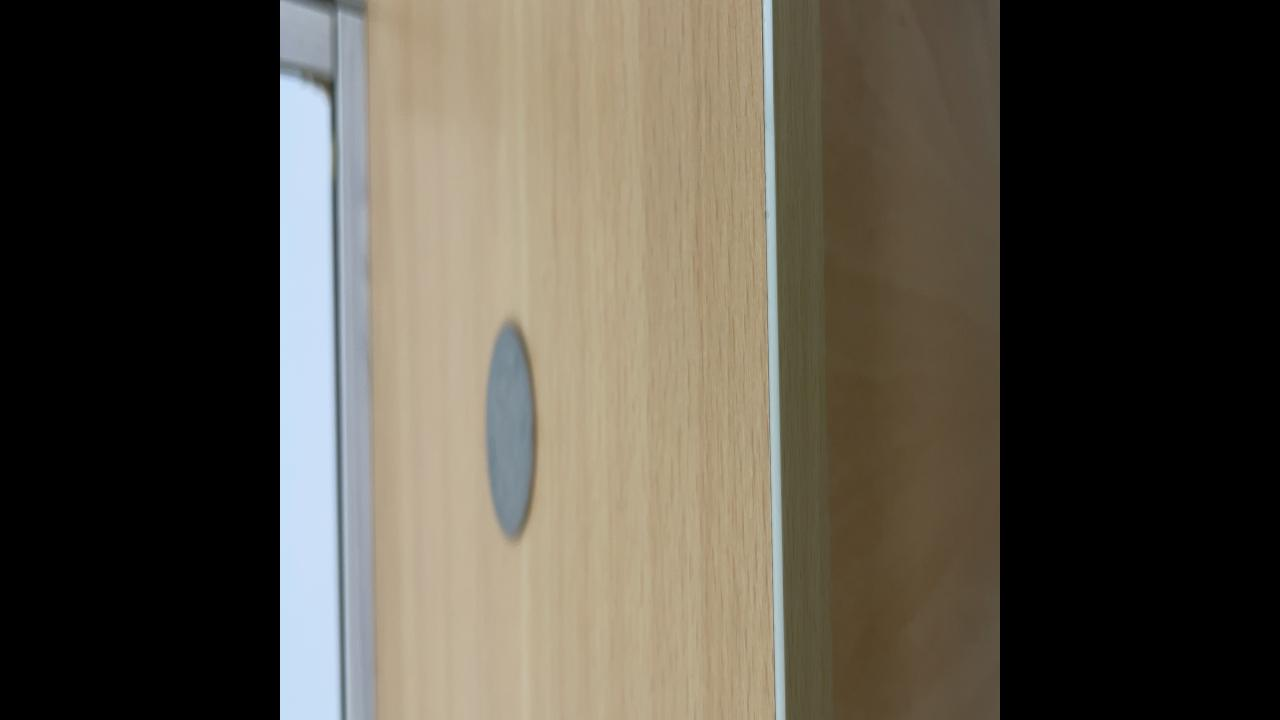coin: (482, 314, 538, 548)
